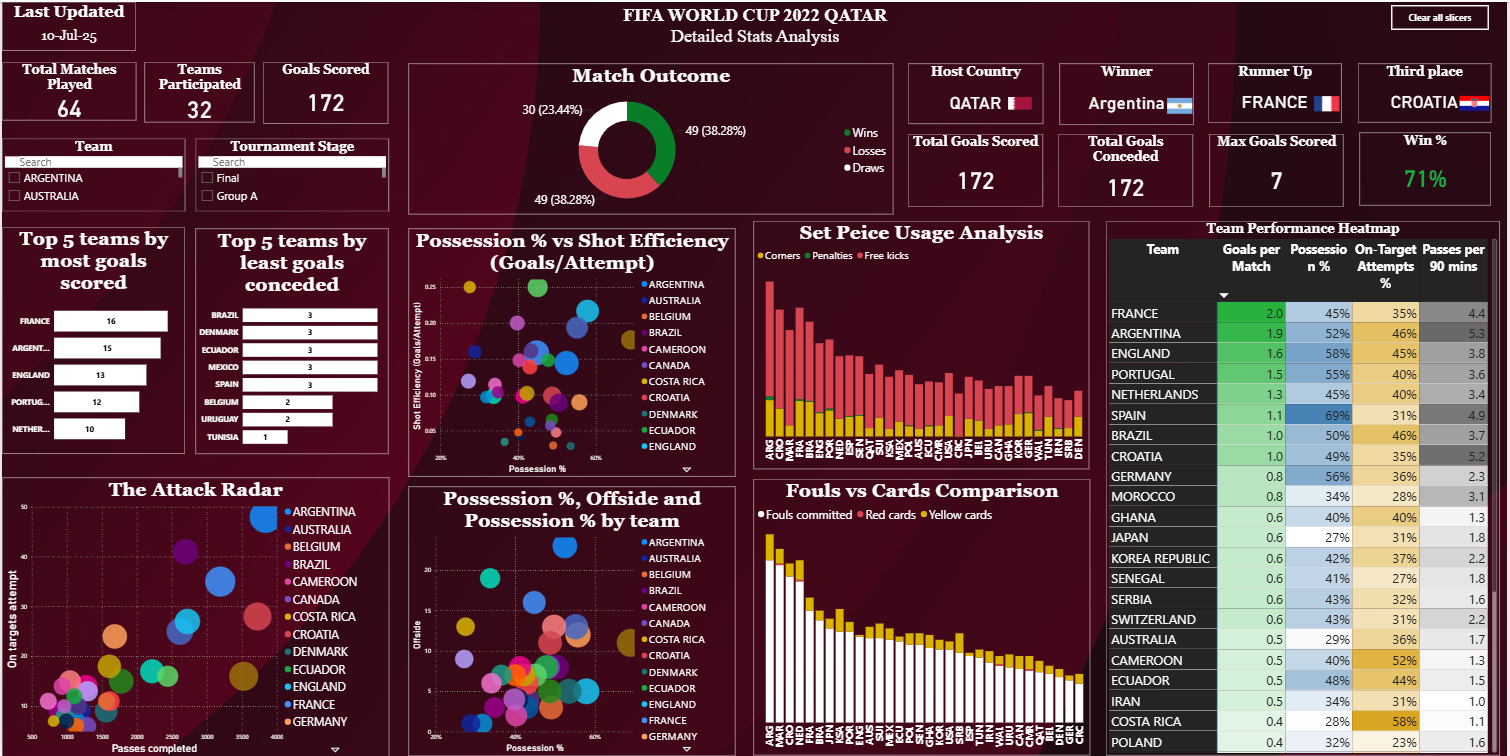

The page's visual inventory and layout, read from the dashboard file:
{"tool":"powerbi","page":{"name":"Page-2","canvas":[3096,1550],"ordinal":0},"visuals":[{"type":"card","title":"Last Updated","fields":{"Values":["WorldCupResults.Today Date"]},"box":[0,0,275,100],"z":0},{"type":"slicer","title":"Tournament Stage","fields":{"Values":["Dup_working.tournament stage"]},"box":[397.3,280,397.3,150],"z":1000},{"type":"textbox","box":[1254.7,0,586.7,120],"z":2000},{"type":"slicer","title":"Team","fields":{"Values":["Dup_working.team"]},"box":[0,280,376.4,150],"z":3000},{"type":"clusteredBarChart","title":"Top 5 teams by least goals conceded","fields":{"Category":["Dup_working.team"],"Y":["Sum(Dup_working.total goals conceded)"]},"box":[397.3,466.4,396.4,463.6],"z":4000},{"type":"donutChart","title":"Match Outcome","fields":{"Y":["Sum(Dup_working.no of wins)","Sum(Dup_working.no of losses)","Sum(Dup_working.no of draws)"]},"box":[836.7,126.7,996.7,310],"z":5000},{"type":"card","title":"Total Matches Played","fields":{"Values":["WorldCupResults.Total Matches Played"]},"box":[0,122,276,120],"z":6000},{"type":"card","title":"Total Goals Scored","fields":{"Values":["Sum(Dup_working.total goals scored)"]},"box":[1863.6,272.3,277.5,150],"z":7000},{"type":"card","title":"Teams Participated","fields":{"Values":["CountNonNull(Dup_working.team)"]},"box":[294,122,226,124],"z":8000},{"type":"card","title":"Winner","fields":{"Values":["WorldCupResults.Champion"]},"box":[2173.3,126.7,276,126],"z":8000,"group":"g2"},{"type":"card","title":"Runner Up","fields":{"Values":["WorldCupResults.RunnerUp"]},"box":[2480,126.7,275,122],"z":9000,"group":"g3"},{"type":"clusteredBarChart","title":"Top 5 teams by most goals scored","fields":{"Category":["Dup_working.team"],"Y":["Sum(Dup_working.total goals scored)"]},"box":[0,464,376,466],"z":9000},{"type":"card","title":"Third place ","fields":{"Values":["WorldCupResults.ThirdPlace"]},"box":[2786.7,126.7,273.7,121],"z":10000,"group":"g4"},{"type":"card","title":"Max Goals Scored","fields":{"Values":["Max(Dup_working.max goals per match)"]},"box":[2481.1,272.3,275,150],"z":10000},{"type":"card","title":"Win %","fields":{"Values":["Max(Dup_working.win %)"]},"box":[2791.1,267.3,270,150],"z":11000},{"type":"card","title":"Total Goals Conceded","fields":{"Values":["Sum(Dup_working.total goals conceded)"]},"box":[2171.1,272.3,277.5,150],"z":12000},{"type":"card","title":"Goals Scored","fields":{"Values":["Sum(Dup_working.total goals scored)"]},"box":[536.4,121.8,257.3,126.4],"z":13000},{"type":"columnChart","title":"Fouls vs Cards Comparison","fields":{"Y":["Sum(Dup_working.fouls against team)","Sum(Dup_working.red cards team)","Sum(Dup_working.yellow cards team)"],"Category":["WorldCupTeams.Code"]},"box":[1545.6,981.5,692.2,567.7],"z":14000},{"type":"scatterChart","fields":{"X":["Sum(Dup_working.avg possession team)"],"Y":["Sum(Dup_working.offsides team)"],"Series":["Dup_working.team"],"Size":["Sum(Dup_working.avg possession team)"]},"box":[836,996,672,554],"z":15000},{"type":"scatterChart","title":"Possession % vs Shot Efficiency (Goals/Attempt)","fields":{"X":["Sum(Dup_working.avg possession team)"],"Series":["Dup_working.team"],"Y":["WorldCupResults.Shot Efficiency"],"Size":["Sum(Dup_working.total goals scored)"]},"box":[836,466,672,510],"z":16000},{"type":"card","title":"Host Country","fields":{"Values":["WorldCupResults.Host"]},"box":[1863.3,126.7,277.7,124.2],"z":17000,"group":"g1"},{"type":"columnChart","title":"Set Peice Usage Analysis","fields":{"Y":["Sum(Dup_working.corners team)","Sum(Dup_working.penalties scored team)","Sum(Dup_working.free kicks team)"],"Category":["WorldCupTeams.Code"]},"box":[1546.1,450.6,690,510],"z":17000},{"type":"image","box":[2064.9,181.1,58.8,52.2],"z":18000,"group":"g1"},{"type":"scatterChart","title":"The Attack Radar ","fields":{"X":["Sum(Dup_working.passes completed team)"],"Series":["Dup_working.team"],"Y":["Sum(Dup_working.on target attempts team)"],"Size":["Sum(Dup_working.completed defensive line breaksteam)"]},"box":[0,976,796,574],"z":18000},{"type":"image","box":[2989.1,185.8,71,47],"z":19000,"group":"g4"},{"type":"pivotTable","title":"Team Performance Heatmap","fields":{"Rows":["Dup_working.team"],"Values":["Matches Played.Goals per Match","Sum(Dup_working.avg possession team)","Matches Played.On-Target Rate %","Matches Played.Passes per 90"]},"box":[2270.7,450.5,809.4,1098.7],"z":19000},{"type":"group","id":"g1","title":"Group 1","box":[1863.3,126.7,280,120],"z":20000},{"type":"image","box":[2692.4,178,62.3,61.2],"z":20000,"group":"g3"},{"type":"group","id":"g2","title":"Group 2","box":[2173.3,126.7,280,126.7],"z":21000},{"type":"image","box":[2390,191.5,62.5,44.6],"z":21000,"group":"g2"},{"type":"group","id":"g3","title":"Group 3","box":[2480,126.7,273.3,120],"z":22000},{"type":"group","id":"g4","title":"Group 4","box":[2786.7,126.7,273.3,123.3],"z":23000},{"type":"actionButton","box":[2856.7,7.3,201.4,51.3],"z":24000}]}

Visuals, with their boxes in screenshot pixels (x1, y1, x2, y2), scaled from the page's 3096x1550 canvas onto the 1510x756 screenshot:
"Last Updated" card: <box>0,0,134,49</box>
"Tournament Stage" slicer: <box>194,137,388,210</box>
textbox: <box>612,0,898,59</box>
"Team" slicer: <box>0,137,184,210</box>
"Top 5 teams by least goals conceded" clusteredBarChart: <box>194,227,387,454</box>
"Match Outcome" donutChart: <box>408,62,894,213</box>
"Total Matches Played" card: <box>0,60,135,118</box>
"Total Goals Scored" card: <box>909,133,1044,206</box>
"Teams Participated" card: <box>143,60,254,120</box>
"Winner" card: <box>1060,62,1195,123</box>
"Runner Up" card: <box>1210,62,1344,121</box>
"Top 5 teams by most goals scored" clusteredBarChart: <box>0,226,183,454</box>
"Third place " card: <box>1359,62,1493,121</box>
"Max Goals Scored" card: <box>1210,133,1344,206</box>
"Win %" card: <box>1361,130,1493,204</box>
"Total Goals Conceded" card: <box>1059,133,1194,206</box>
"Goals Scored" card: <box>262,59,387,121</box>
"Fouls vs Cards Comparison" columnChart: <box>754,479,1091,755</box>
scatterChart - Sum(Dup_working.avg possession team) x Sum(Dup_working.offsides team): <box>408,486,735,755</box>
"Possession % vs Shot Efficiency (Goals/Attempt)" scatterChart: <box>408,227,735,476</box>
"Host Country" card: <box>909,62,1044,122</box>
"Set Peice Usage Analysis" columnChart: <box>754,220,1091,469</box>
image: <box>1007,88,1036,114</box>
"The Attack Radar " scatterChart: <box>0,476,388,755</box>
image: <box>1458,91,1492,114</box>
"Team Performance Heatmap" pivotTable: <box>1107,220,1502,755</box>
"Group 1" group: <box>909,62,1045,120</box>
image: <box>1313,87,1344,117</box>
"Group 2" group: <box>1060,62,1197,124</box>
image: <box>1166,93,1196,115</box>
"Group 3" group: <box>1210,62,1343,120</box>
"Group 4" group: <box>1359,62,1492,122</box>
actionButton: <box>1393,4,1492,29</box>
